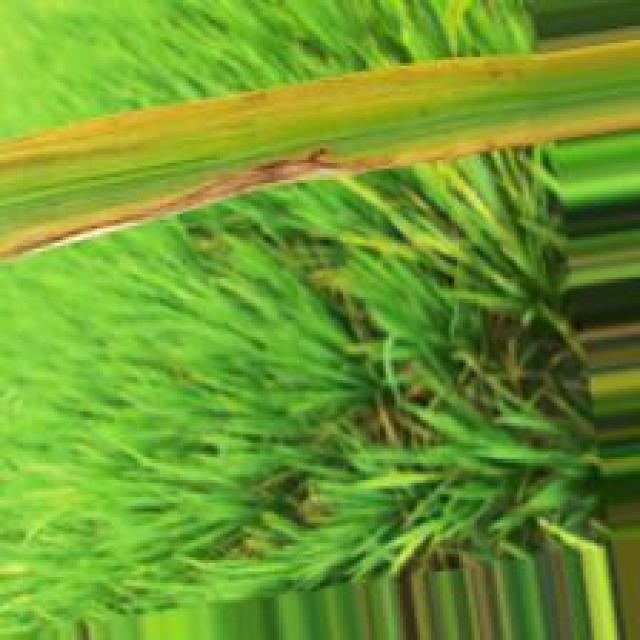Leaf_Blast: (0, 144, 395, 262)
